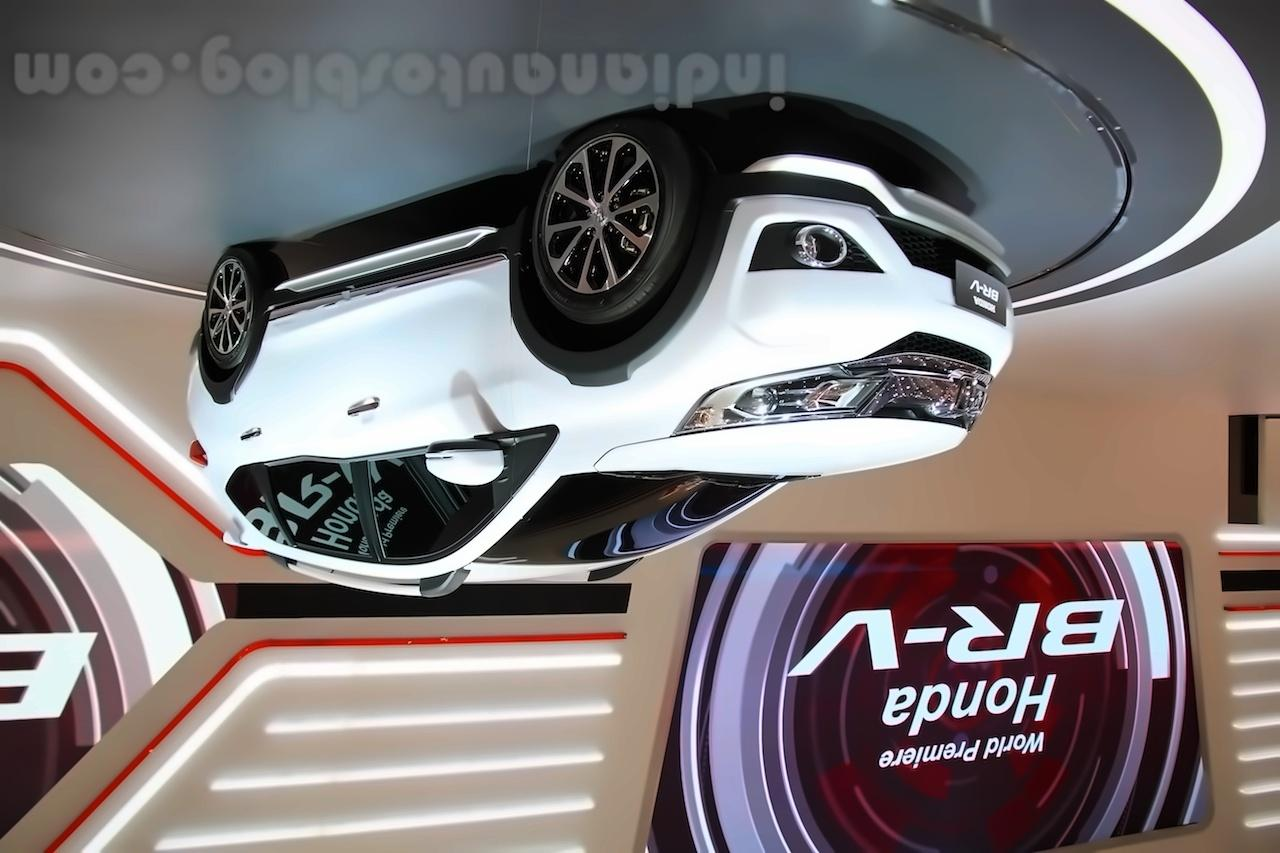Car hood: (593, 415, 977, 484)
Fender - -F-L-: (507, 192, 709, 453)
Fender - -R-L-: (189, 373, 246, 445)
Front bumper: (710, 138, 1035, 372)
Headlight - -L-: (671, 355, 889, 441)
Passenger-s door - -F-L-: (345, 243, 507, 576)
Passenger-s door - -R-L-: (232, 287, 358, 566)
Rear bumper: (179, 319, 214, 396)
Rear light - -L-: (178, 429, 216, 482)
Side mirror - -L-: (419, 431, 511, 496)
